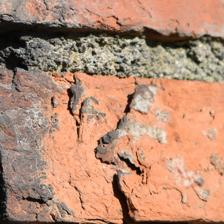Crack: (32, 16, 120, 126), (14, 7, 104, 62)
